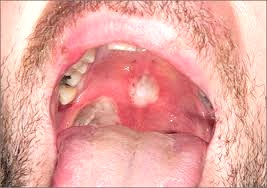Ulcer: (67, 94, 122, 126), (133, 68, 160, 106)
